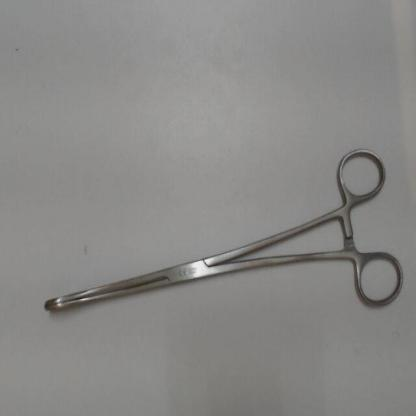Sponge Forceps: (35, 138, 412, 325)
